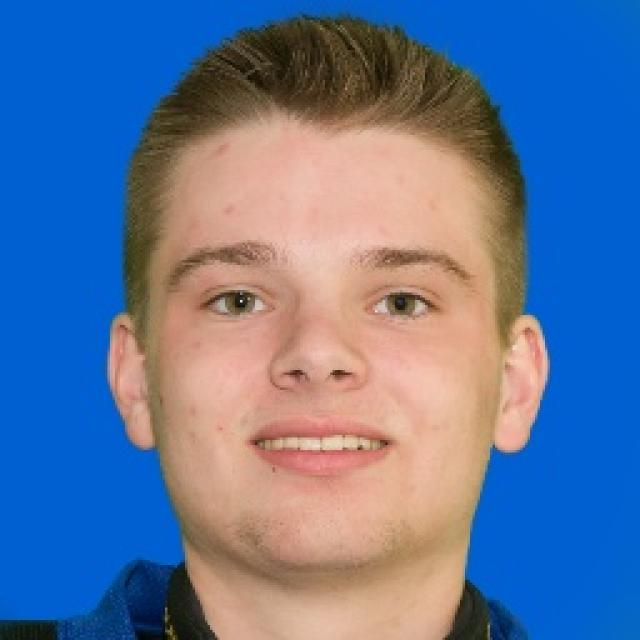earlobe: (104, 311, 159, 451), (497, 316, 549, 454)
